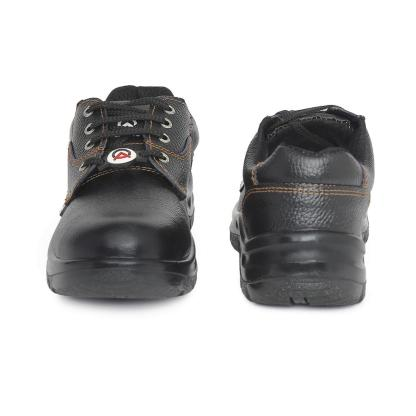bota: (41, 81, 203, 304), (224, 99, 378, 315)
